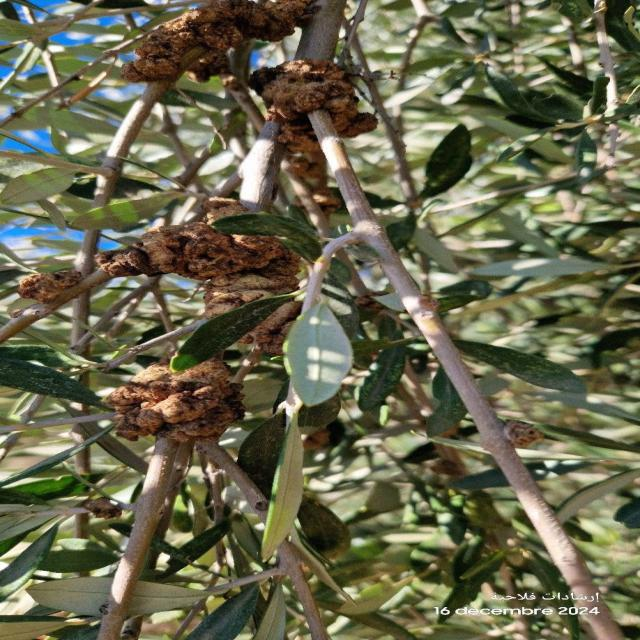Tuberculosis: (96, 222, 300, 317), (121, 0, 317, 85), (250, 59, 377, 155), (107, 359, 244, 443), (16, 269, 83, 306), (503, 420, 544, 448)
